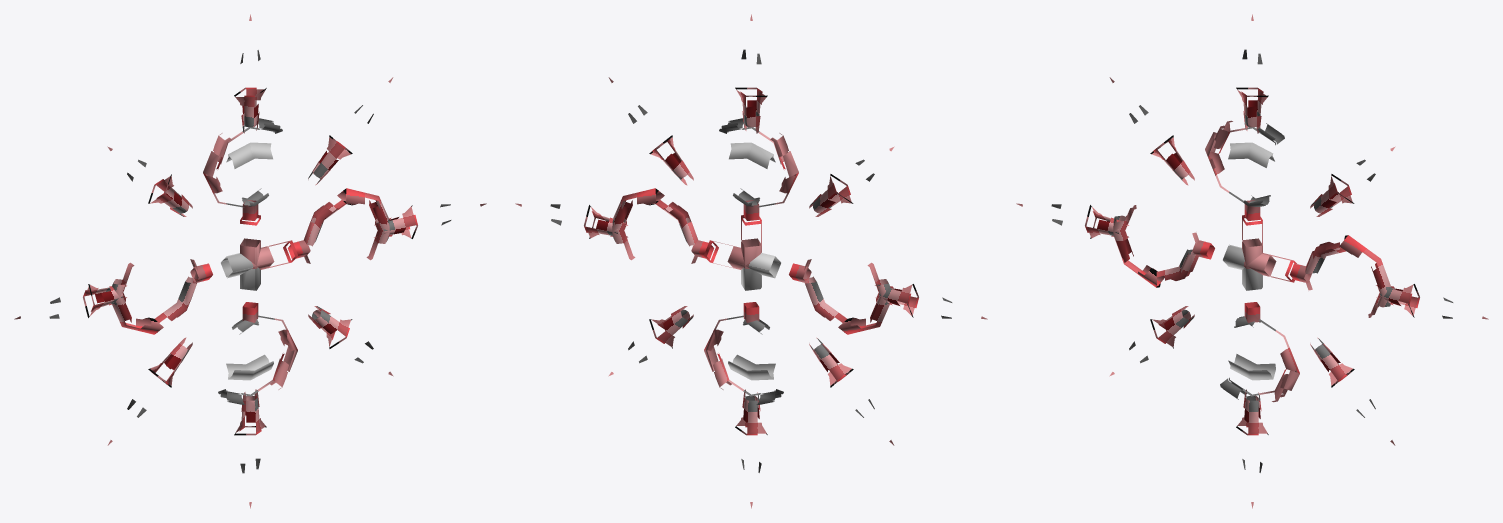
Rendered from eternalflames.obj.
The picture shows the model from 3 angles, left to right: view 1: azimuth 30°, elevation 25°; view 2: azimuth 150°, elevation 25°; view 3: azimuth 330°, elevation 25°; orthographic projection.
Visible parts, largest first — view 1: mesh; view 2: mesh; view 3: mesh.
Boxes of the visible parts, x1=… form: mesh: x1=14, y1=14, x2=486, y2=508; mesh: x1=515, y1=14, x2=987, y2=508; mesh: x1=1016, y1=14, x2=1488, y2=508.
Bounding box in the file's own units: 107 × 107 × 4.81.
